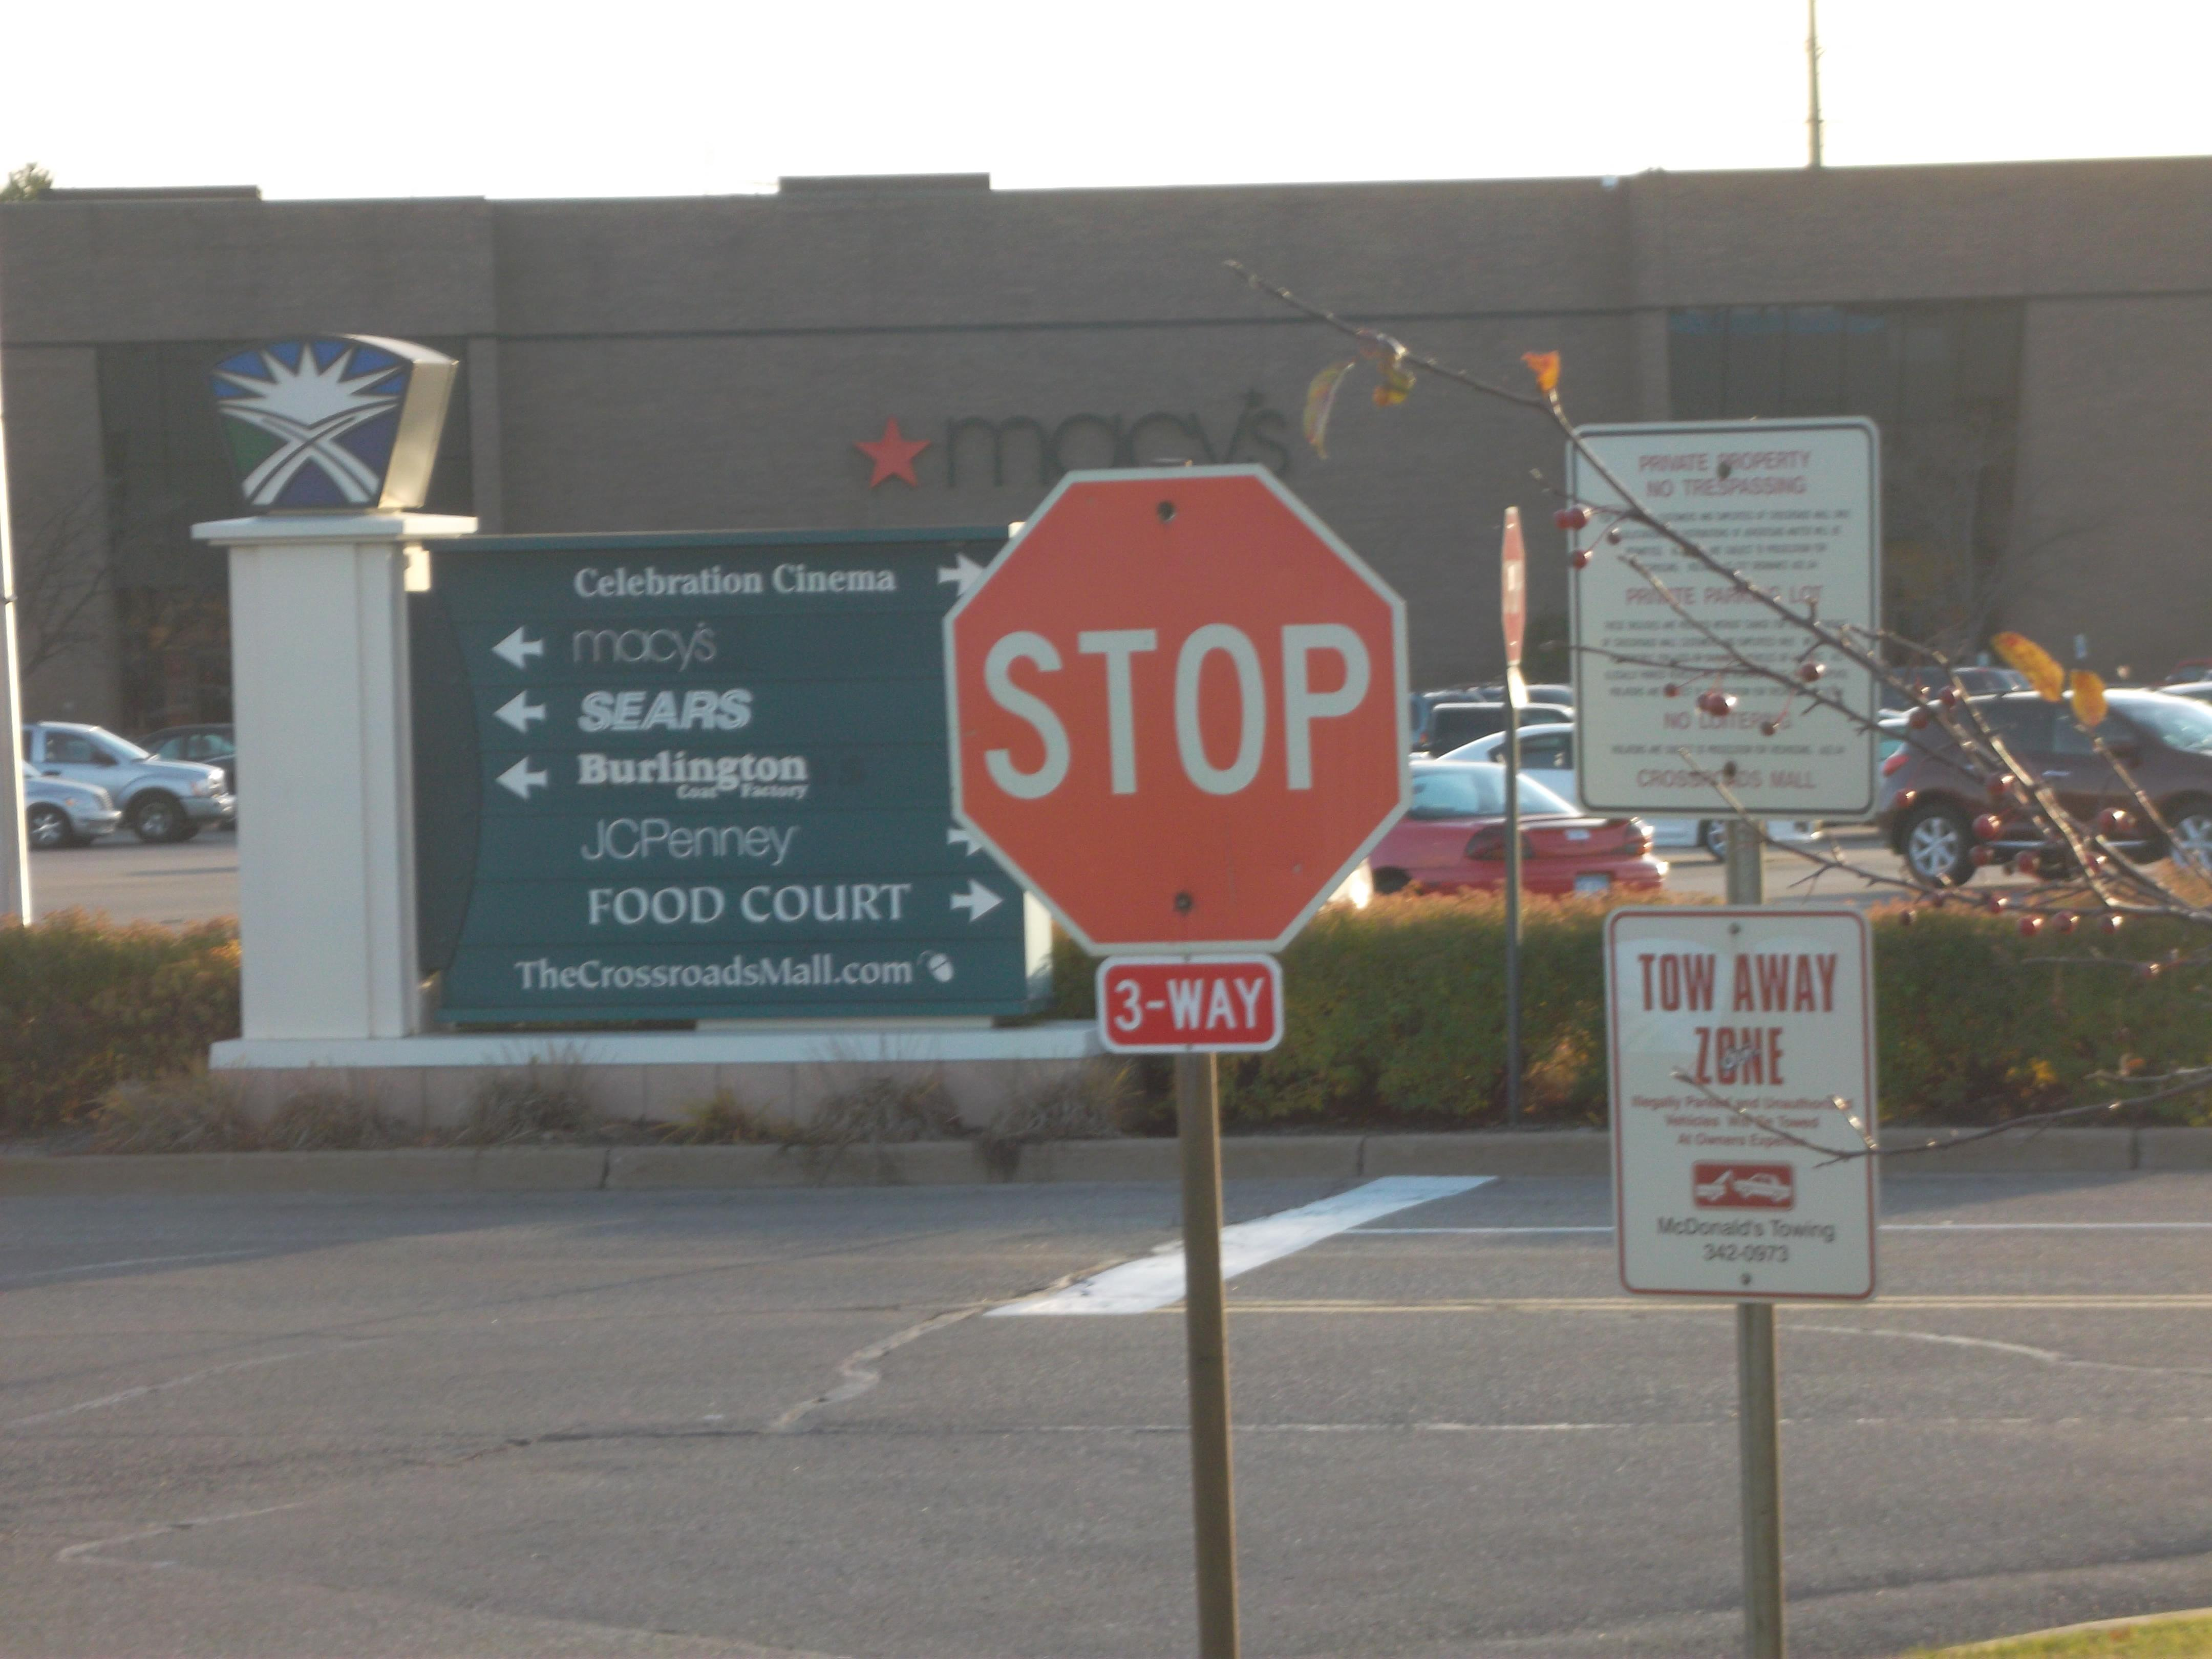stop: (937, 455, 1423, 960)
